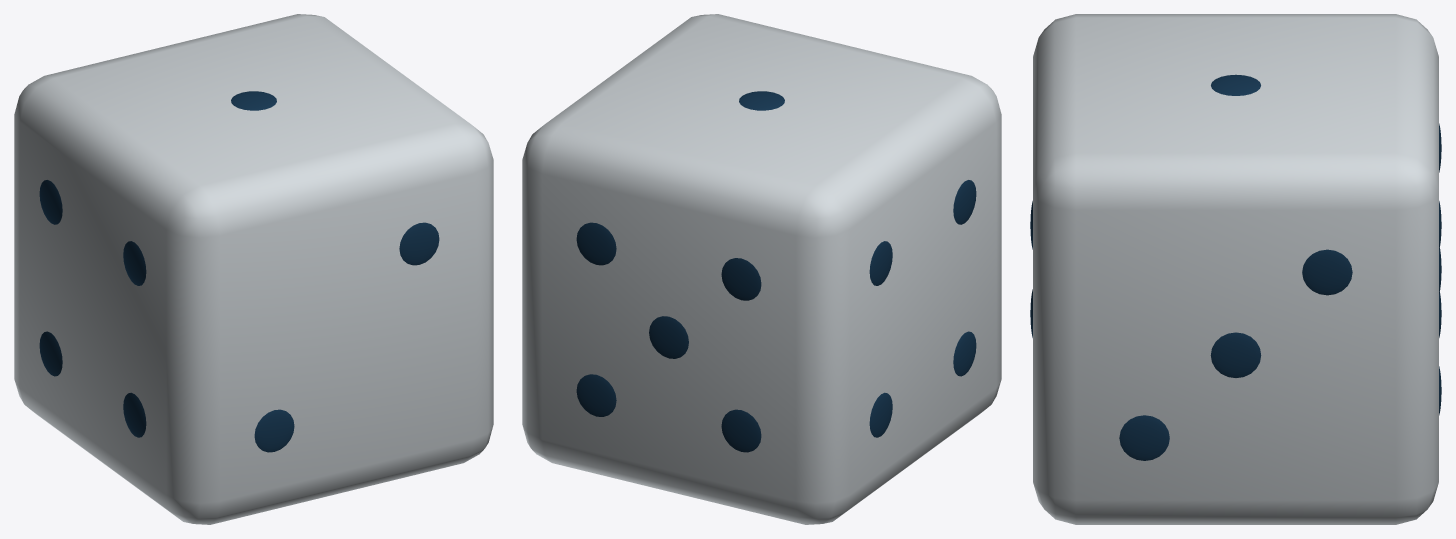
File: die.glb
The picture shows the model from 3 angles, left to right: view 1: azimuth 30°, elevation 25°; view 2: azimuth 150°, elevation 25°; view 3: azimuth 270°, elevation 25°; orthographic projection. The views are drawn at different scales.
Parts seen in each view (by area): view 1: Rounded die, Face 2 pip 1, Face 2 pip 2, Face 4 pip 2, Face 4 pip 1, Face 4 pip 4, Face 4 pip 3, Face 1 pip 1; view 2: Rounded die, Face 5 pip 1, Face 5 pip 2, Face 5 pip 5, Face 5 pip 3, Face 5 pip 4, Face 4 pip 3, Face 4 pip 1, Face 4 pip 4, Face 4 pip 2, Face 1 pip 1; view 3: Rounded die, Face 3 pip 2, Face 3 pip 1, Face 3 pip 3, Face 1 pip 1.
Boxes of the visible parts, x1=… form: Rounded die: x1=14, y1=14, x2=493, y2=524; Face 2 pip 1: x1=254, y1=409, x2=294, y2=452; Face 2 pip 2: x1=399, y1=222, x2=439, y2=265; Face 4 pip 2: x1=39, y1=331, x2=62, y2=376; Face 4 pip 1: x1=123, y1=241, x2=146, y2=285; Face 4 pip 4: x1=39, y1=180, x2=62, y2=224; Face 4 pip 3: x1=123, y1=392, x2=146, y2=437; Face 1 pip 1: x1=231, y1=91, x2=276, y2=110; Rounded die: x1=522, y1=14, x2=1001, y2=524; Face 5 pip 1: x1=721, y1=258, x2=761, y2=300; Face 5 pip 2: x1=576, y1=374, x2=616, y2=416; Face 5 pip 5: x1=649, y1=316, x2=688, y2=358; Face 5 pip 3: x1=721, y1=409, x2=761, y2=452; Face 5 pip 4: x1=576, y1=222, x2=616, y2=265; Face 4 pip 3: x1=953, y1=331, x2=976, y2=376; Face 4 pip 1: x1=953, y1=180, x2=976, y2=224; Face 4 pip 4: x1=869, y1=241, x2=892, y2=285; Face 4 pip 2: x1=869, y1=392, x2=892, y2=437; Face 1 pip 1: x1=739, y1=91, x2=784, y2=110; Rounded die: x1=1033, y1=14, x2=1438, y2=524; Face 3 pip 2: x1=1302, y1=249, x2=1352, y2=295; Face 3 pip 1: x1=1119, y1=415, x2=1169, y2=460; Face 3 pip 3: x1=1210, y1=332, x2=1261, y2=377; Face 1 pip 1: x1=1211, y1=74, x2=1260, y2=95.
Bounding box in the file's own units: 1.62 × 1.62 × 1.62.
